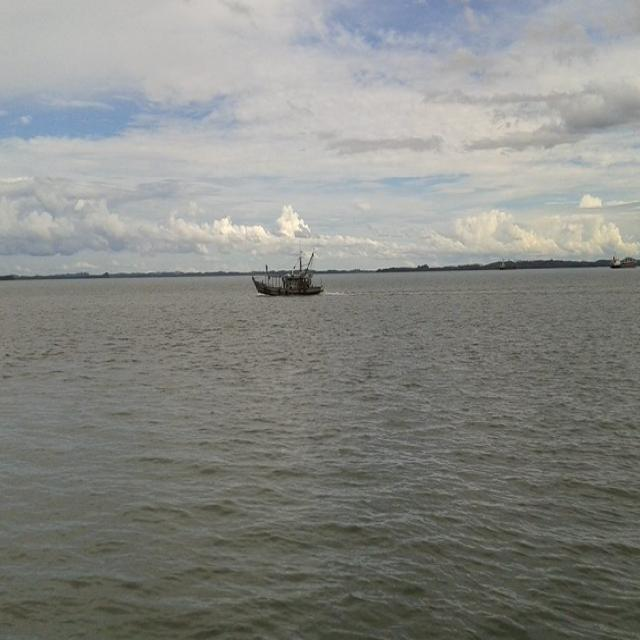fishing boat: (249, 240, 323, 298)
